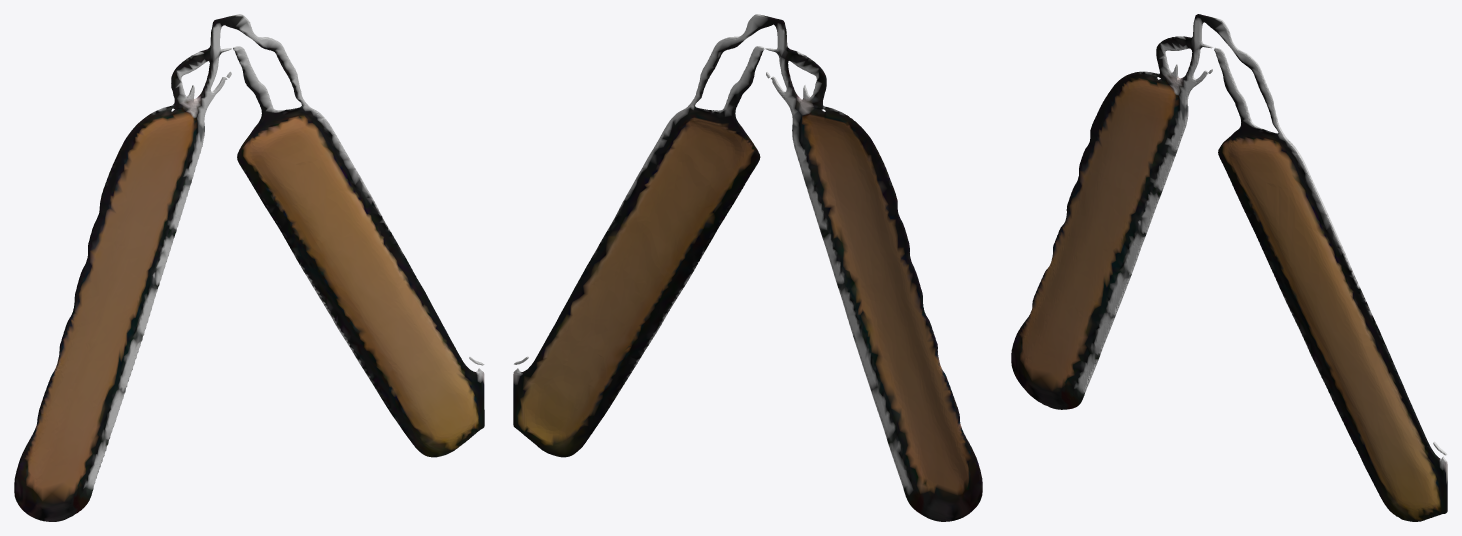
File: nunchacu_1.glb
3 renders of one model, left to right at view 1: azimuth 30°, elevation 25°; view 2: azimuth 150°, elevation 25°; view 3: azimuth 330°, elevation 25°, orthographic. The views are drawn at different scales.
Visible parts, largest first — view 1: geometry_0; view 2: geometry_0; view 3: geometry_0.
Boxes of the visible parts, box(x1,y1,x2,y2) form: geometry_0: box(14, 14, 484, 521); geometry_0: box(513, 14, 982, 521); geometry_0: box(1011, 14, 1447, 521).
Bounding box in the file's own units: 0.875 × 0.8753 × 0.0159.
